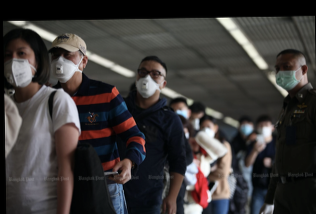with_mask: (3, 45, 33, 90), (48, 48, 76, 84), (134, 65, 160, 98), (274, 59, 300, 90), (257, 119, 274, 138), (199, 123, 216, 139), (187, 114, 203, 131), (170, 104, 188, 119), (238, 119, 254, 135)
